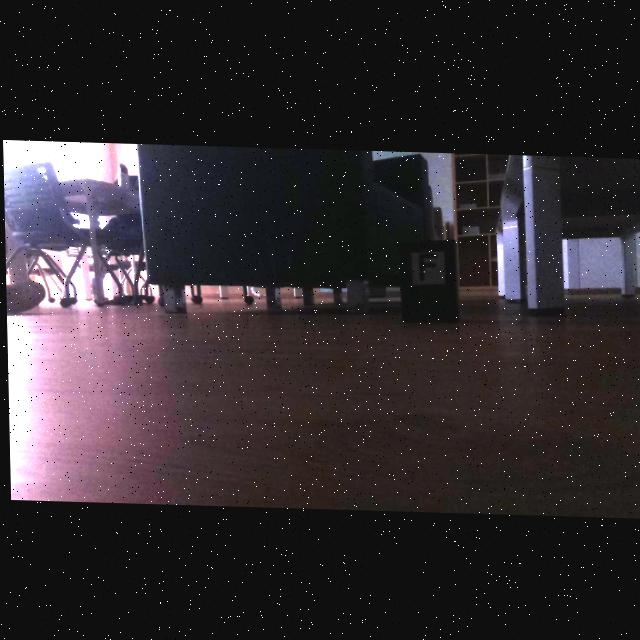F: (418, 251, 436, 279)
